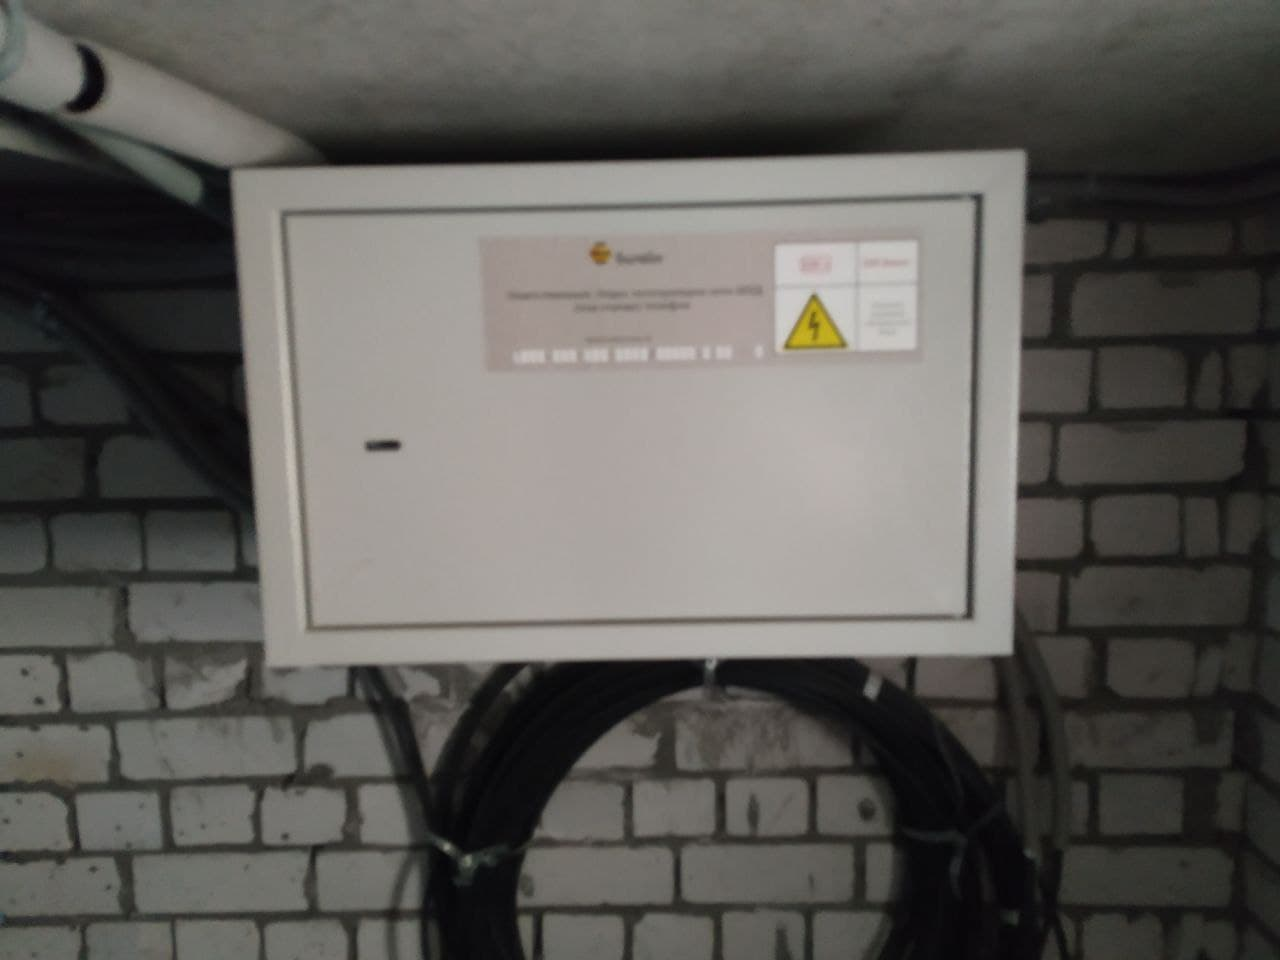shta-7m: (224, 137, 1043, 681)
